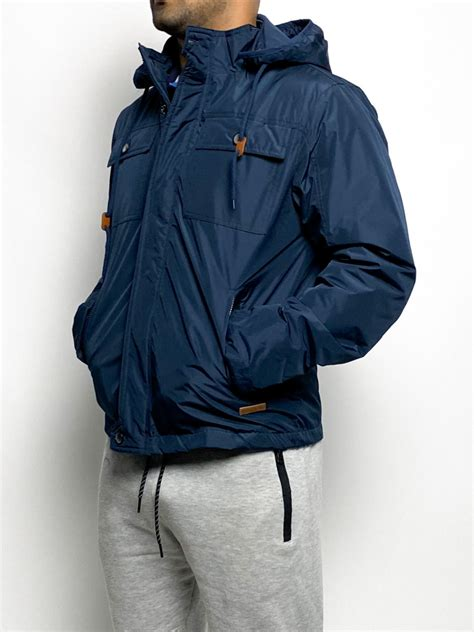nylon: (74, 14, 416, 455)
